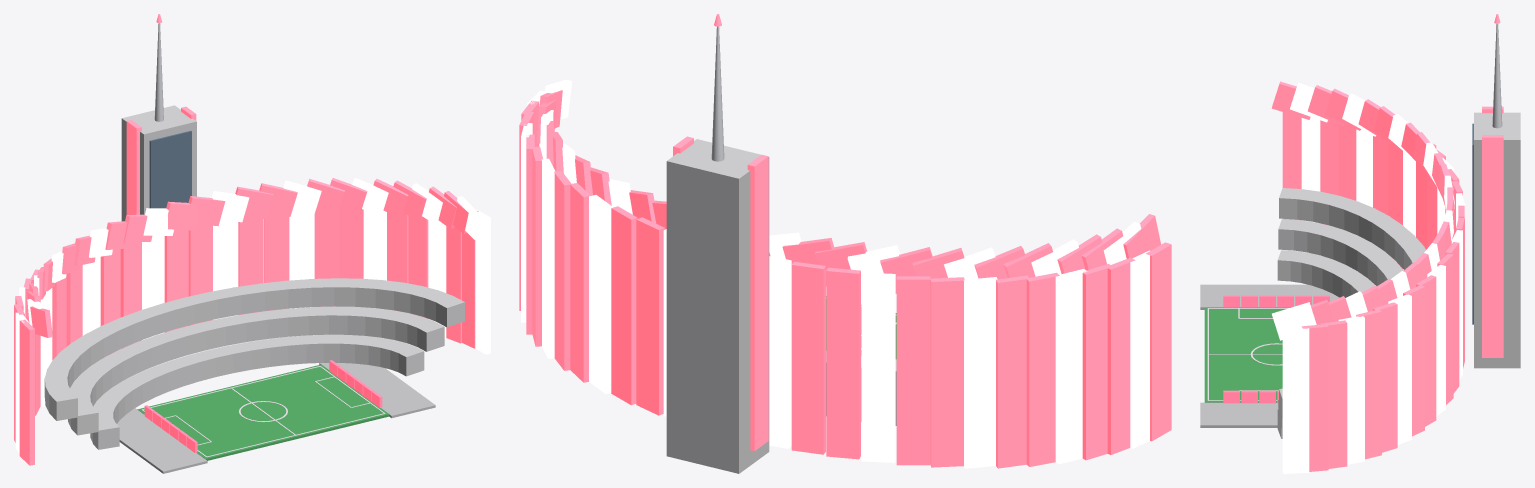
File: SM_Stage_NacionalLima_PE.glb
3 views of the same model, side by side, from view 1: azimuth 30°, elevation 25°; view 2: azimuth 150°, elevation 25°; view 3: azimuth 270°, elevation 25° (orthographic). The views are drawn at different scales.
Parts seen in each view (by area): view 1: SM_Stage_NacionalLima_PE; view 2: SM_Stage_NacionalLima_PE; view 3: SM_Stage_NacionalLima_PE.
Boxes of the visible parts, x1,y1,x2,y2 form: SM_Stage_NacionalLima_PE: [14, 14, 490, 473]; SM_Stage_NacionalLima_PE: [519, 14, 1171, 473]; SM_Stage_NacionalLima_PE: [1200, 14, 1520, 473].
Size of the model in its own units: 62.66 by 42.03 by 35.6.
